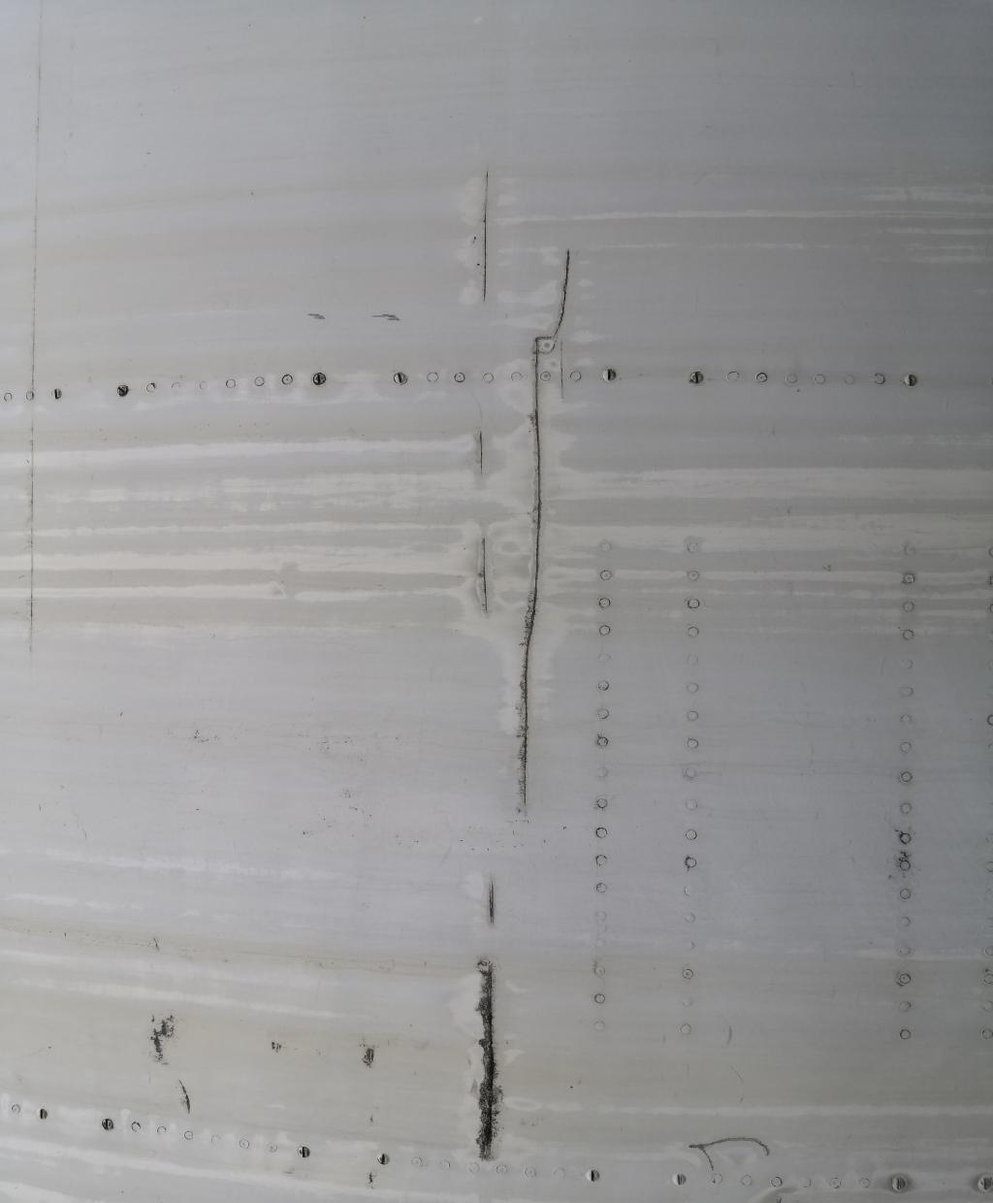crack: (464, 240, 588, 1157)
